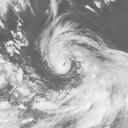cyclone: (39, 31, 74, 77)
